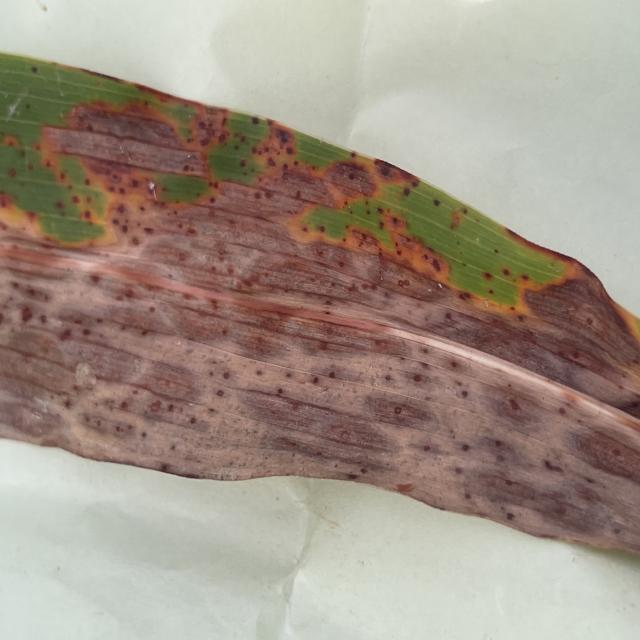millet_rust: (0, 41, 640, 566)
